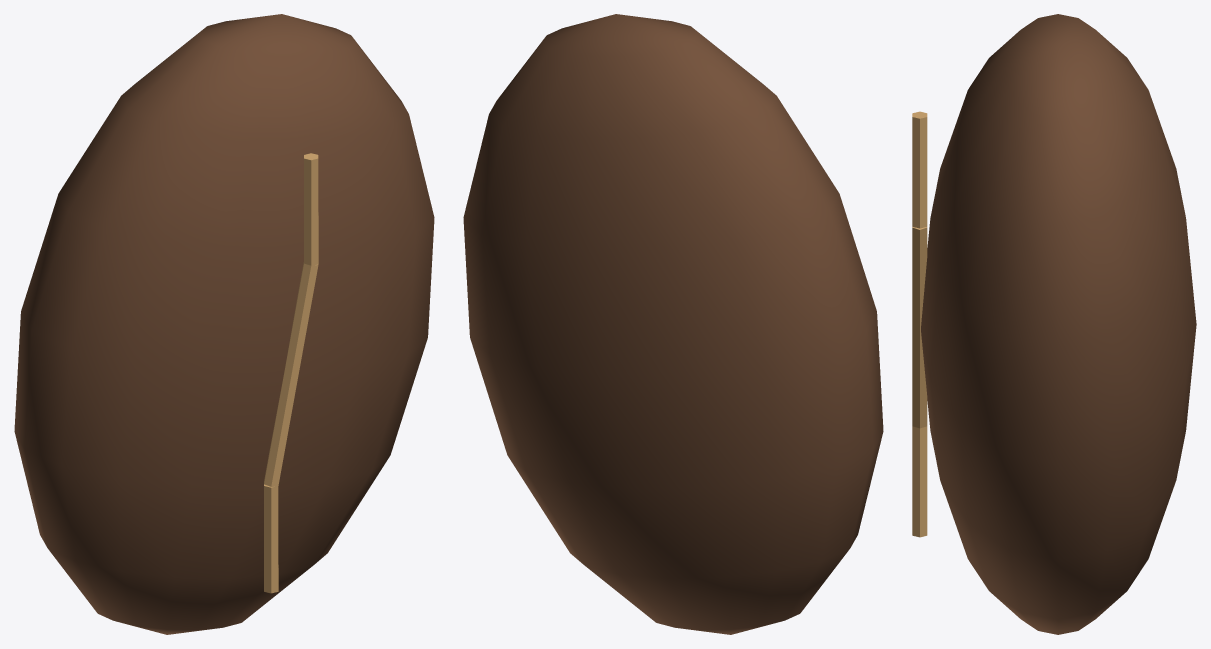
File: orb3_floating_bean.glb
3 renders of one model, left to right at view 1: azimuth 30°, elevation 25°; view 2: azimuth 150°, elevation 25°; view 3: azimuth 270°, elevation 25°, orthographic. The views are drawn at different scales.
Visible parts, largest first — view 1: orb3_floating_bean__orb3-roasted-coffee, orb3_floating_bean__orb3-brushed-brass; view 2: orb3_floating_bean__orb3-roasted-coffee; view 3: orb3_floating_bean__orb3-roasted-coffee, orb3_floating_bean__orb3-brushed-brass.
Boxes of the visible parts, <box> form: orb3_floating_bean__orb3-roasted-coffee: <box>14,14,434,634</box>; orb3_floating_bean__orb3-brushed-brass: <box>264,153,318,593</box>; orb3_floating_bean__orb3-roasted-coffee: <box>463,14,883,634</box>; orb3_floating_bean__orb3-roasted-coffee: <box>921,14,1196,634</box>; orb3_floating_bean__orb3-brushed-brass: <box>912,111,927,537</box>.
Bounding box in the file's own units: 1.38 × 1.96 × 0.8217.
